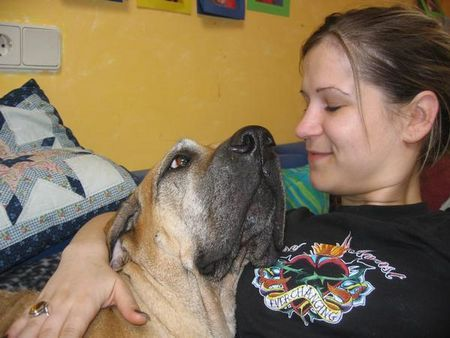fila_brasileiro: (0, 123, 287, 338)
human_face: (294, 56, 439, 195)
person: (7, 4, 450, 338)
